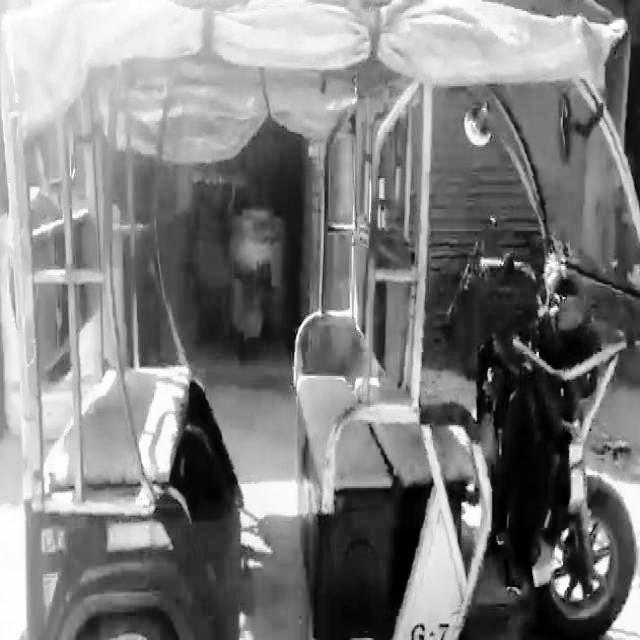Toto: (0, 5, 640, 630)
